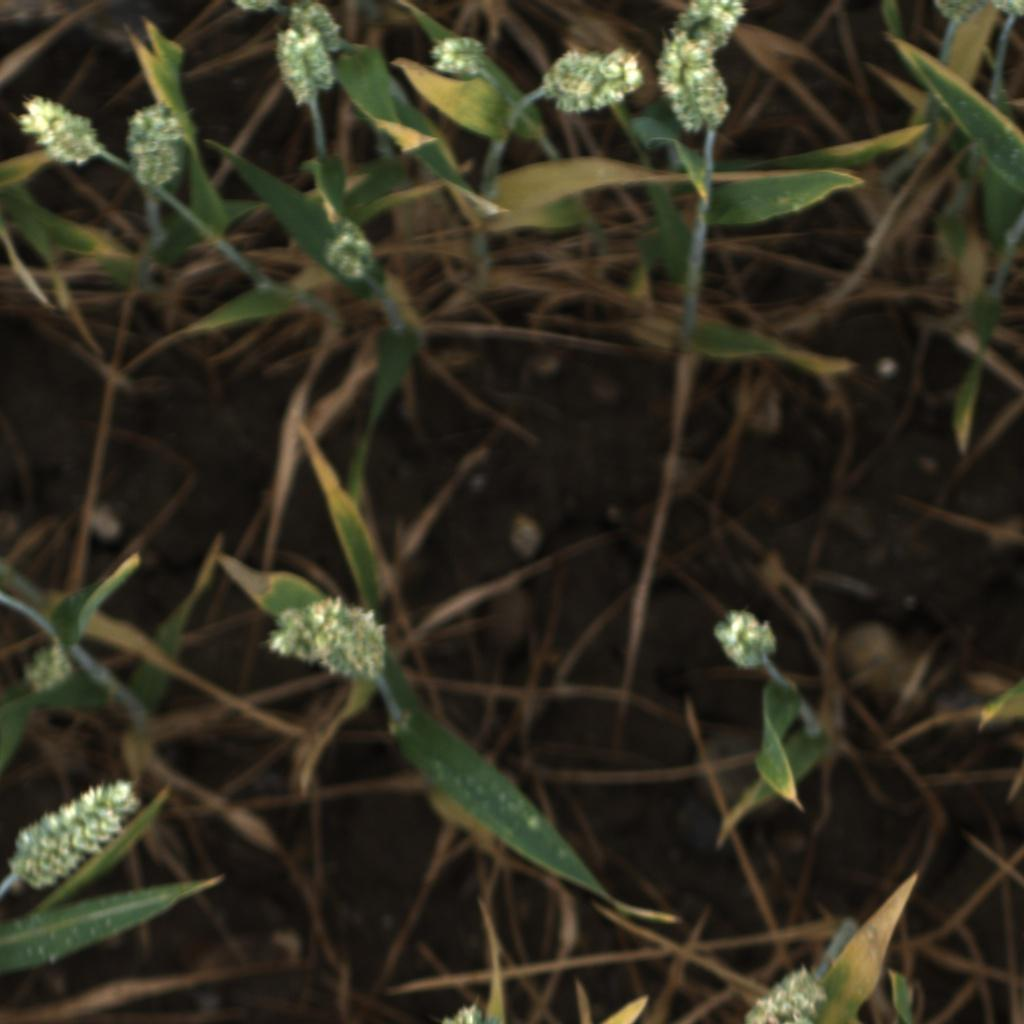0-0: (6, 777, 146, 893), (269, 586, 395, 689), (531, 44, 649, 120), (654, 45, 733, 136), (17, 90, 101, 174), (126, 98, 193, 195), (265, 27, 337, 113), (703, 603, 781, 677), (316, 218, 385, 288), (732, 967, 816, 1024), (661, 2, 750, 52), (282, 2, 346, 61), (426, 26, 488, 83), (21, 643, 80, 699), (436, 996, 501, 1022), (931, 0, 985, 24), (231, 0, 281, 14), (989, 0, 1023, 20)
